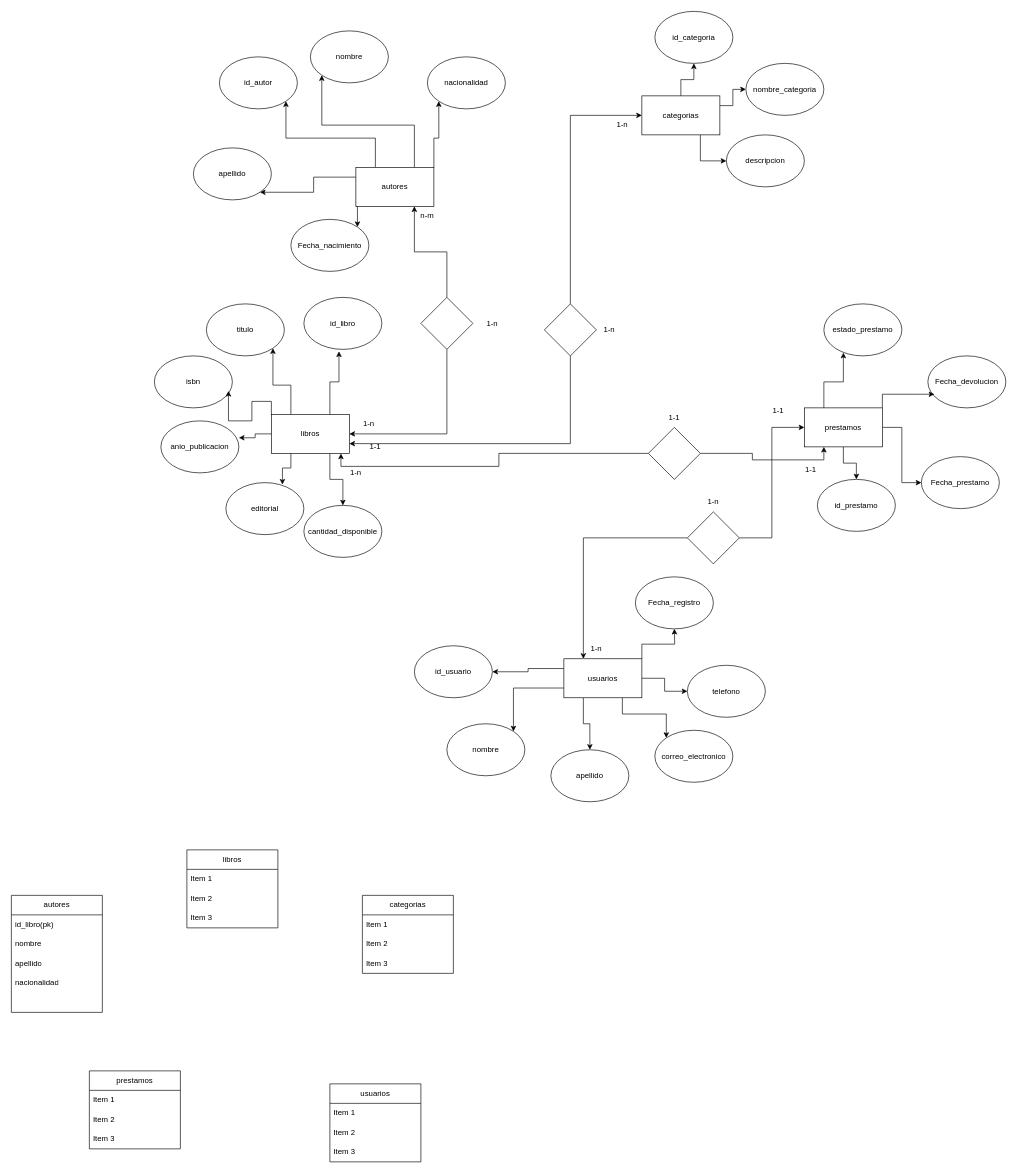
Image size: 1017x1173. Some labels were removed from this diagram. The shapes that lost their labels are listed below. From the top down, each one's centre as x and y in pixels, then its label:
At pixel 446 323: "escribir".
At pixel 570 329: "pertenece".
At pixel 674 453: "contiene".
At pixel 713 537: "solicitar".
